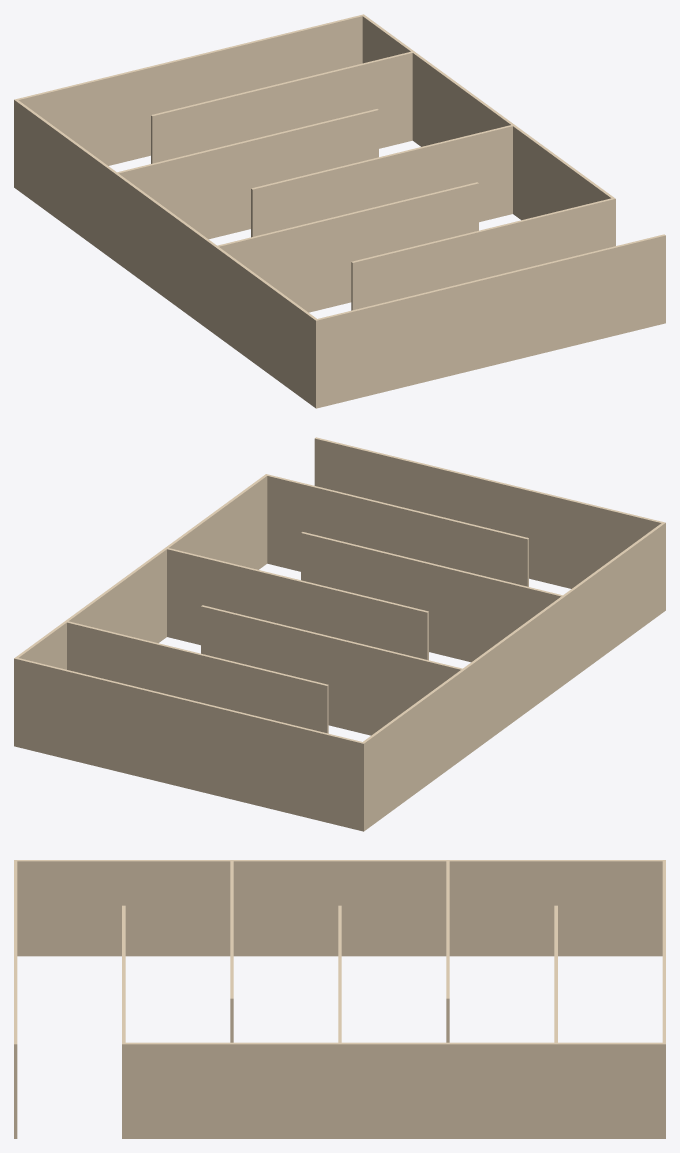
The picture shows the model from 3 angles, top to bottom: view 1: azimuth 30°, elevation 25°; view 2: azimuth 150°, elevation 25°; view 3: azimuth 270°, elevation 25°; orthographic projection. The views are drawn at different scales.
Visible parts, largest first — view 1: group_0; view 2: group_0; view 3: group_0.
Part boxes in pixels (bbox=[...]): group_0: bbox=[14, 14, 665, 408]; group_0: bbox=[14, 437, 665, 831]; group_0: bbox=[14, 860, 665, 1138].
Bounding box in the file's own units: 1.25 × 1.87 × 0.3.
